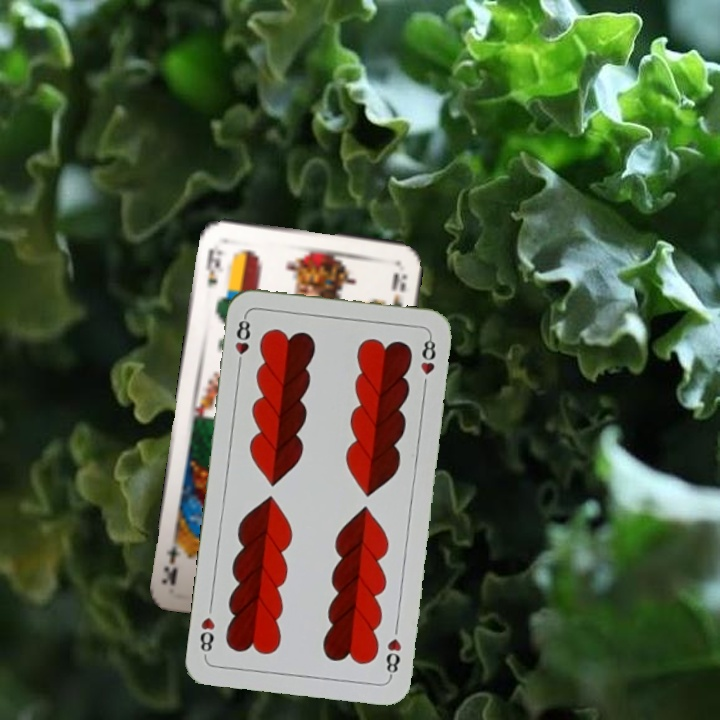EK: (201, 238, 226, 290)
H8: (231, 312, 253, 371), (382, 634, 404, 680)
